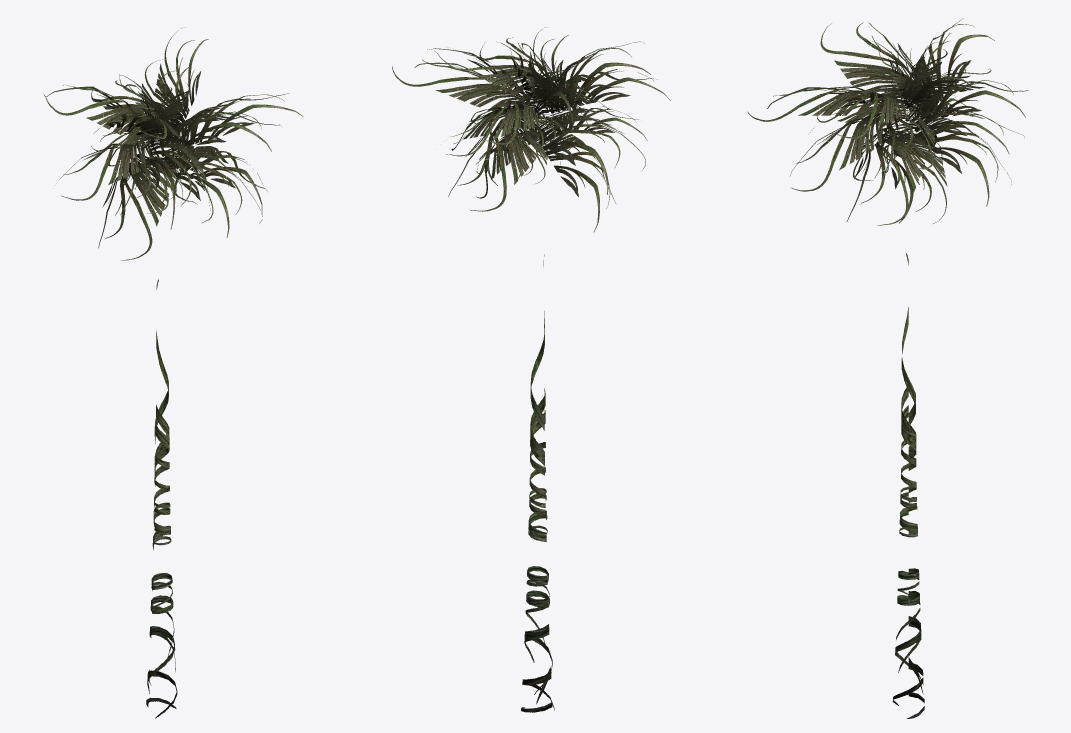
Rendered from palm_tree.fbx.
3 renders of one model, left to right at view 1: azimuth 30°, elevation 25°; view 2: azimuth 150°, elevation 25°; view 3: azimuth 270°, elevation 25°, orthographic. The views are drawn at different scales.
Parts seen in each view (by area): view 1: palm_tree; view 2: palm_tree; view 3: palm_tree.
Part boxes in pixels (x1,y1,x2,y2): palm_tree: (43,27,303,718); palm_tree: (392,27,670,712); palm_tree: (747,18,1028,718).
Bounding box in the file's own units: 198 × 440 × 198.
